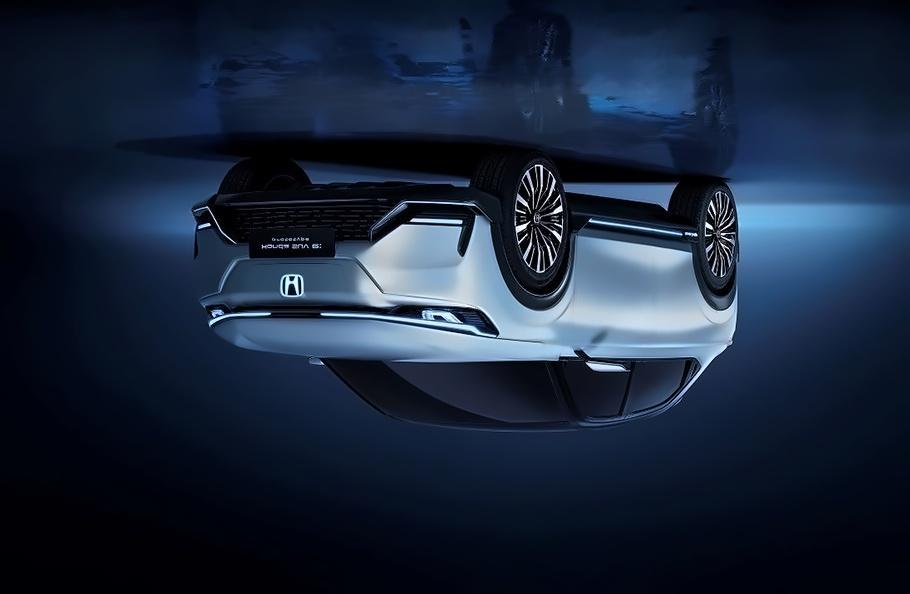Car hood: (212, 310, 556, 362)
Driver-s door - -F-R-: (541, 191, 648, 426)
Fender - -F-R-: (478, 196, 580, 346)
Fender - -R-R-: (676, 227, 739, 381)
Front bumper: (181, 182, 499, 308)
Headlight - -L-: (203, 304, 272, 326)
Headlight - -R-: (387, 302, 499, 337)
Passenger-s door - -R-R-: (612, 189, 708, 424)
Side bumper - -R-: (578, 193, 693, 266)
Side mirror - -R-: (572, 345, 632, 376)
